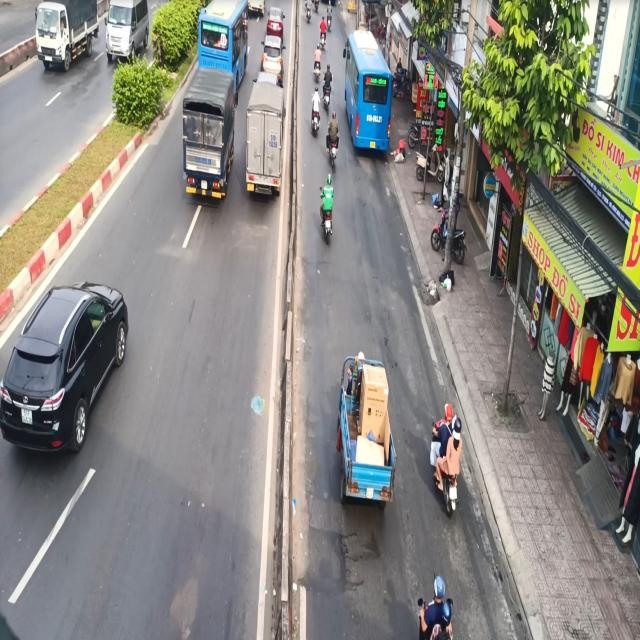bus: (343, 34, 395, 170), (200, 0, 251, 76)
car: (0, 268, 133, 469), (262, 33, 285, 81)
motorbike: (430, 400, 463, 505), (317, 166, 339, 249), (322, 110, 342, 170), (310, 83, 325, 151)
truck: (182, 62, 238, 209), (245, 78, 289, 198)
